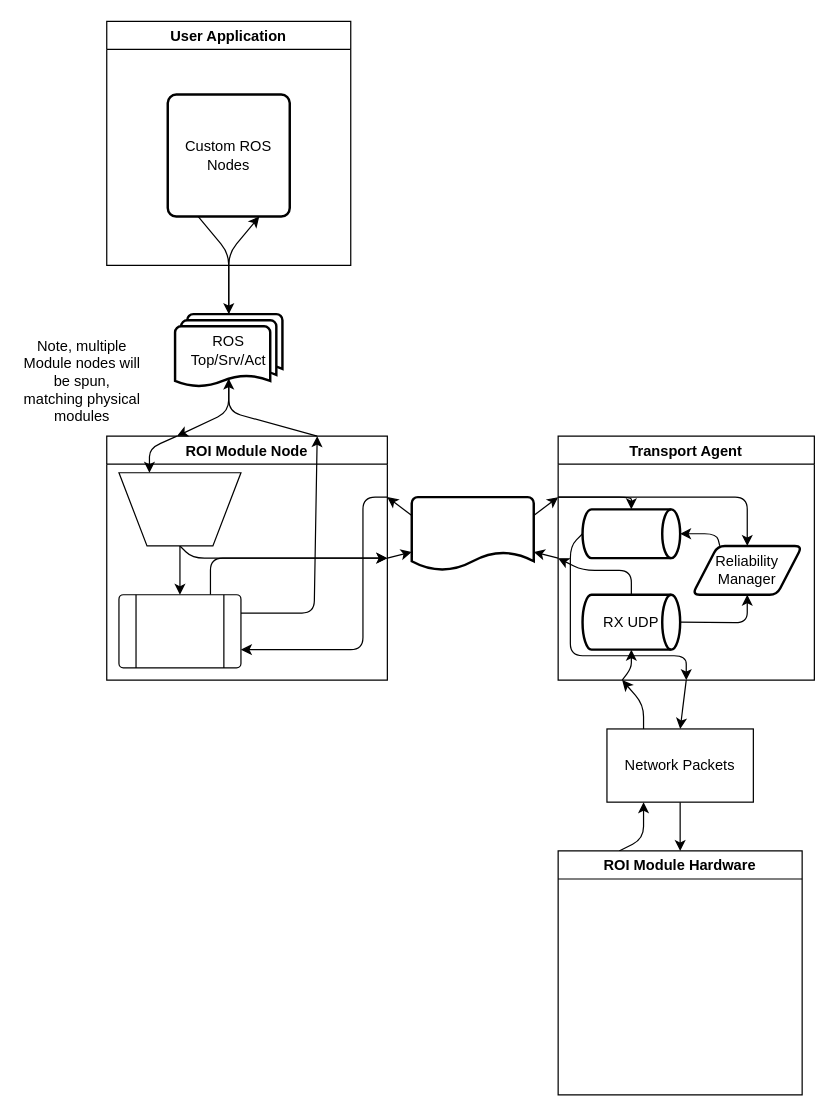
Some shapes in this 836 by 1116 pixel diagram are drawn without their labels. The shapes that lost their labels are listed below. From the top down, each one's centre as x and y in pixels, then its label:
(179,509): Callback actions
(472,533): ROI Specific ROS Interface
(631,533): TX UDP
(179,631): State Manager
